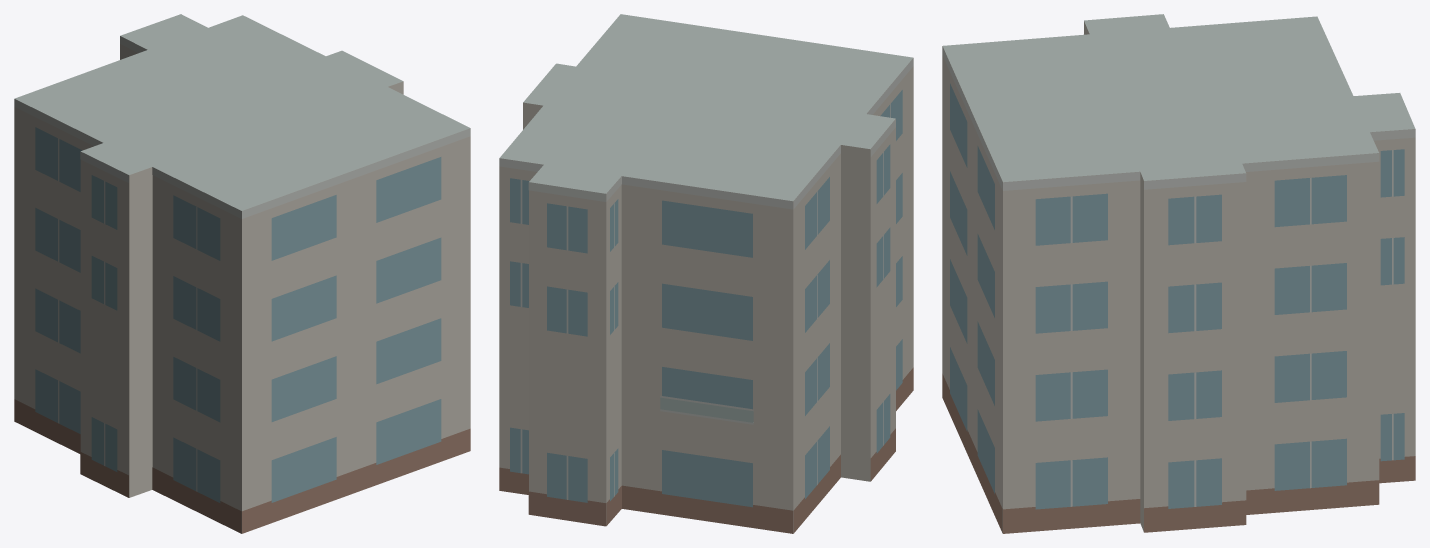
File: survey-upis-32905436.glb
3 renders of one model, left to right at view 1: azimuth 30°, elevation 25°; view 2: azimuth 150°, elevation 25°; view 3: azimuth 270°, elevation 25°, orthographic. The views are drawn at different scales.
Parts seen in each view (by area): view 1: survey-upis-32905436.tmp; view 2: survey-upis-32905436.tmp; view 3: survey-upis-32905436.tmp.
Boxes of the visible parts, bbox=[...] form: survey-upis-32905436.tmp: bbox=[14, 14, 470, 533]; survey-upis-32905436.tmp: bbox=[499, 14, 913, 533]; survey-upis-32905436.tmp: bbox=[942, 14, 1415, 533].
Bounding box in the file's own units: 10.06 × 9.8 × 11.96.
